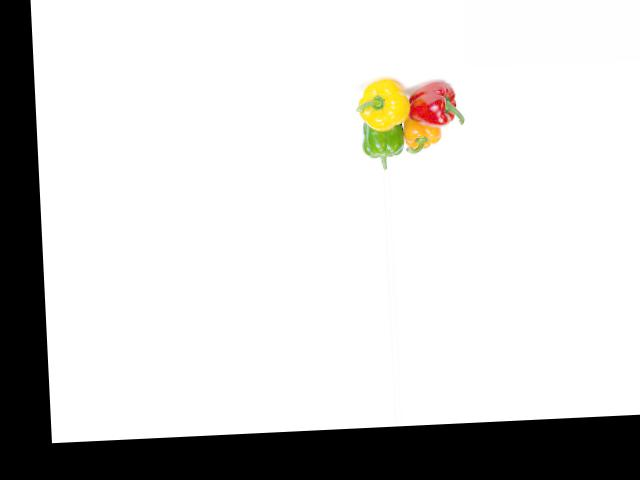bell_pepper: (351, 75, 413, 132)
